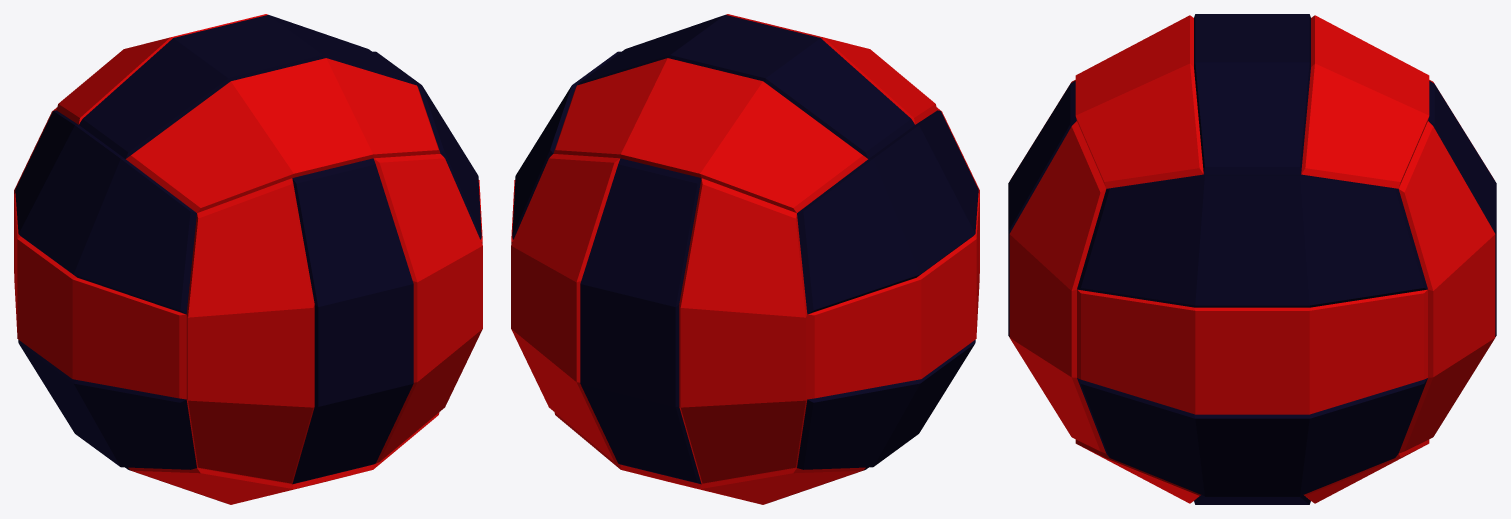
The model's file is Volleyball_01.fbx.
3 renders of one model, left to right at view 1: azimuth 30°, elevation 25°; view 2: azimuth 150°, elevation 25°; view 3: azimuth 270°, elevation 25°, orthographic. The views are drawn at different scales.
Parts seen in each view (by area): view 1: Volleyball_01; view 2: Volleyball_01; view 3: Volleyball_01.
Boxes of the visible parts, <box> form: Volleyball_01: <box>14,14,482,504</box>; Volleyball_01: <box>511,14,979,504</box>; Volleyball_01: <box>1008,14,1496,504</box>.
Bounding box in the file's own units: 4.88 × 4.88 × 4.88.
